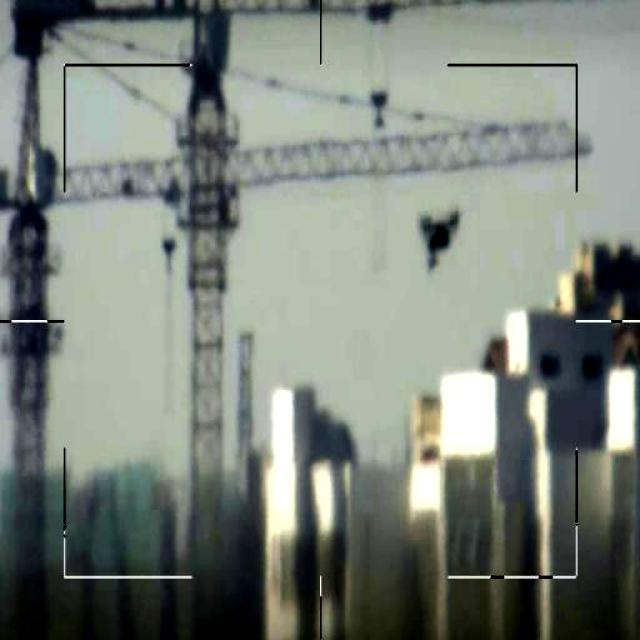bird: (414, 200, 461, 274)
